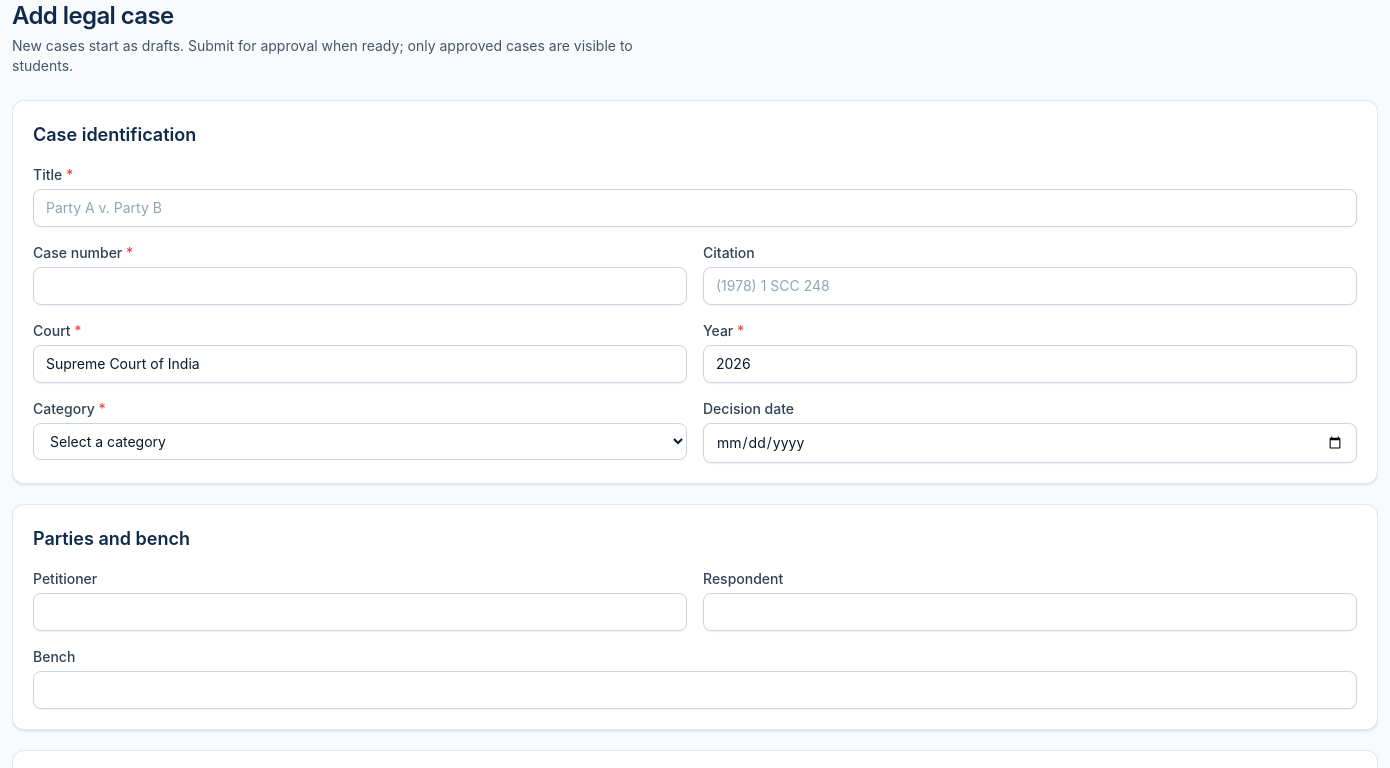
Test case: CaseForm › flags a duplicate case number on that field
Type "Maneka Gandhi v. Union of India" into the field labelled "Title *".
click(695, 208); type("Maneka Gandhi v. Union of India")  # box [33,189,1357,227]
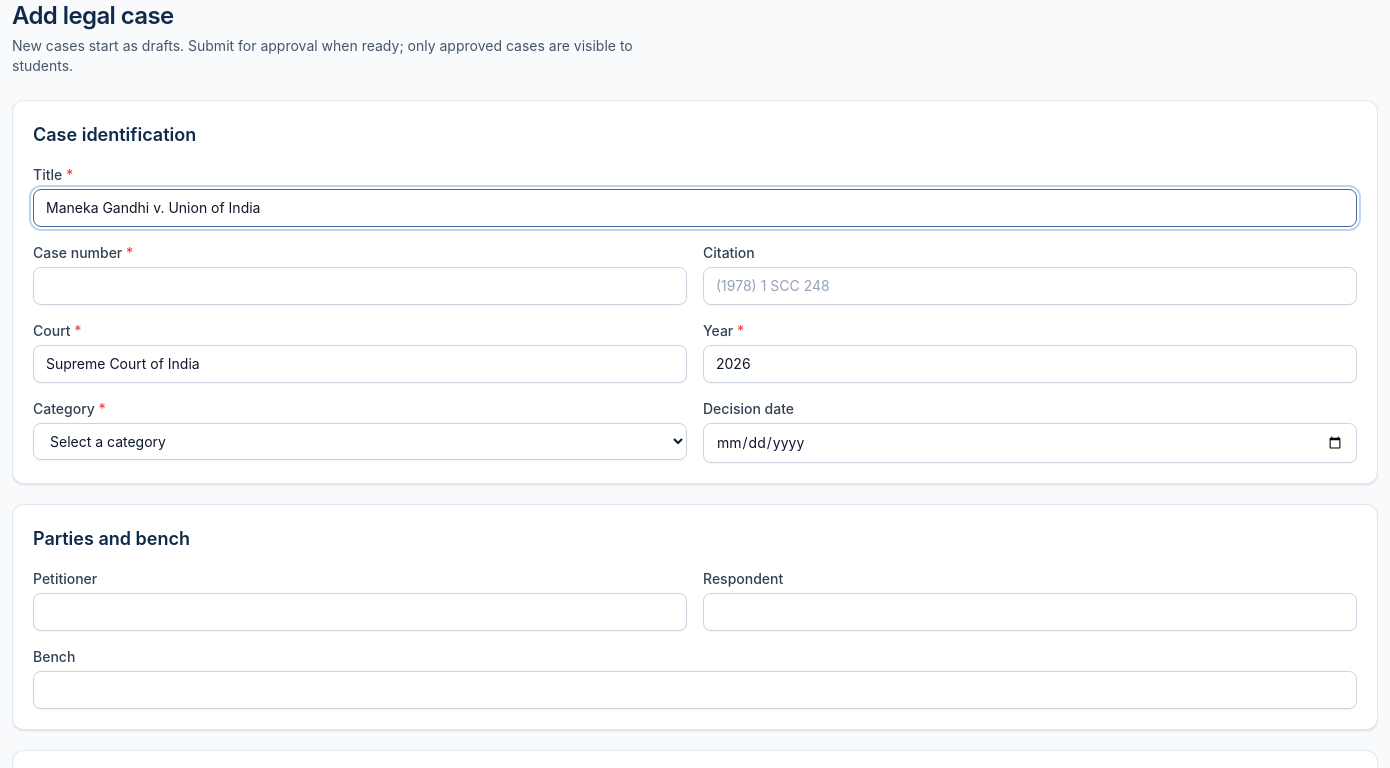
Type "WP 231/1977" into the field labelled "Case number *".
click(360, 286); type("WP 231/1977")  # box [33,267,687,305]
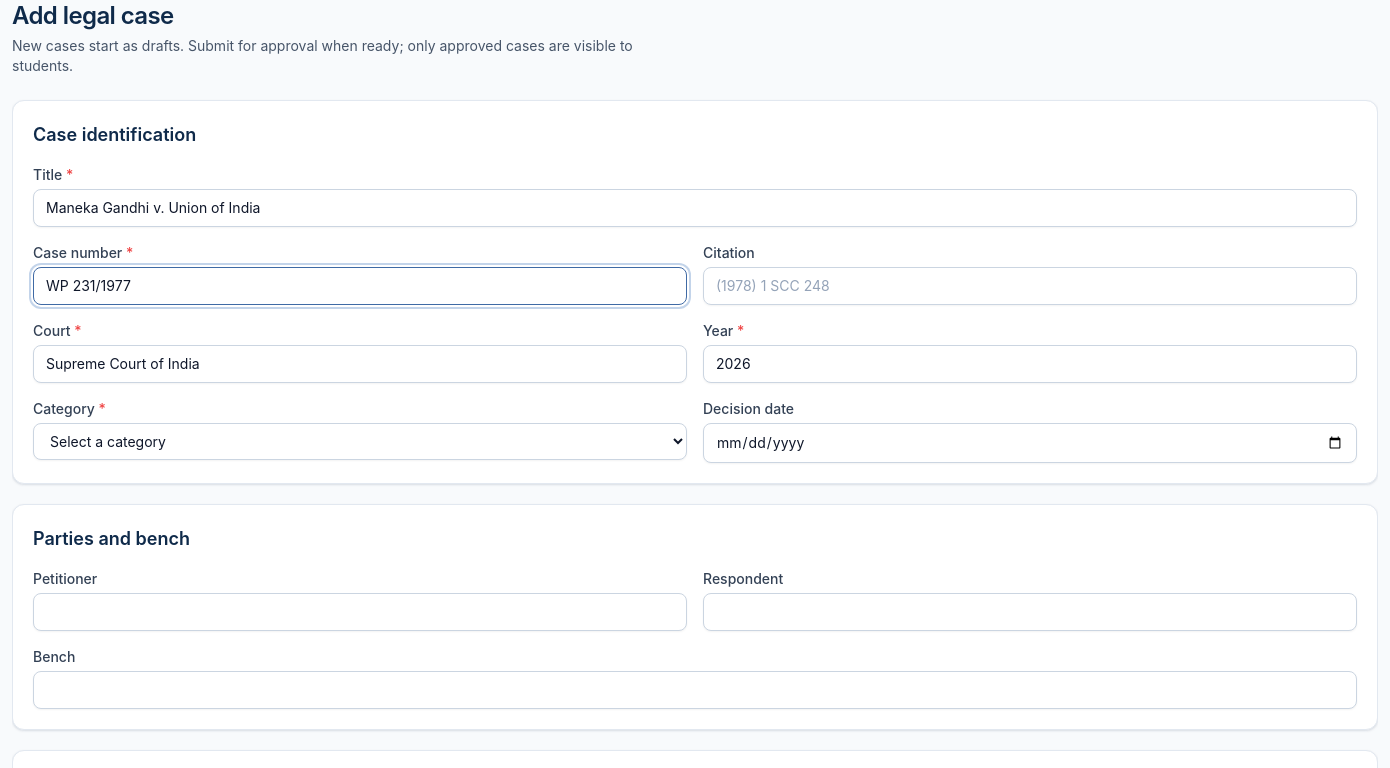
Select "Constitutional Law" in the dropdown labelled "Category *" at (360, 442), box [33,423,687,460]
(page scrolled)
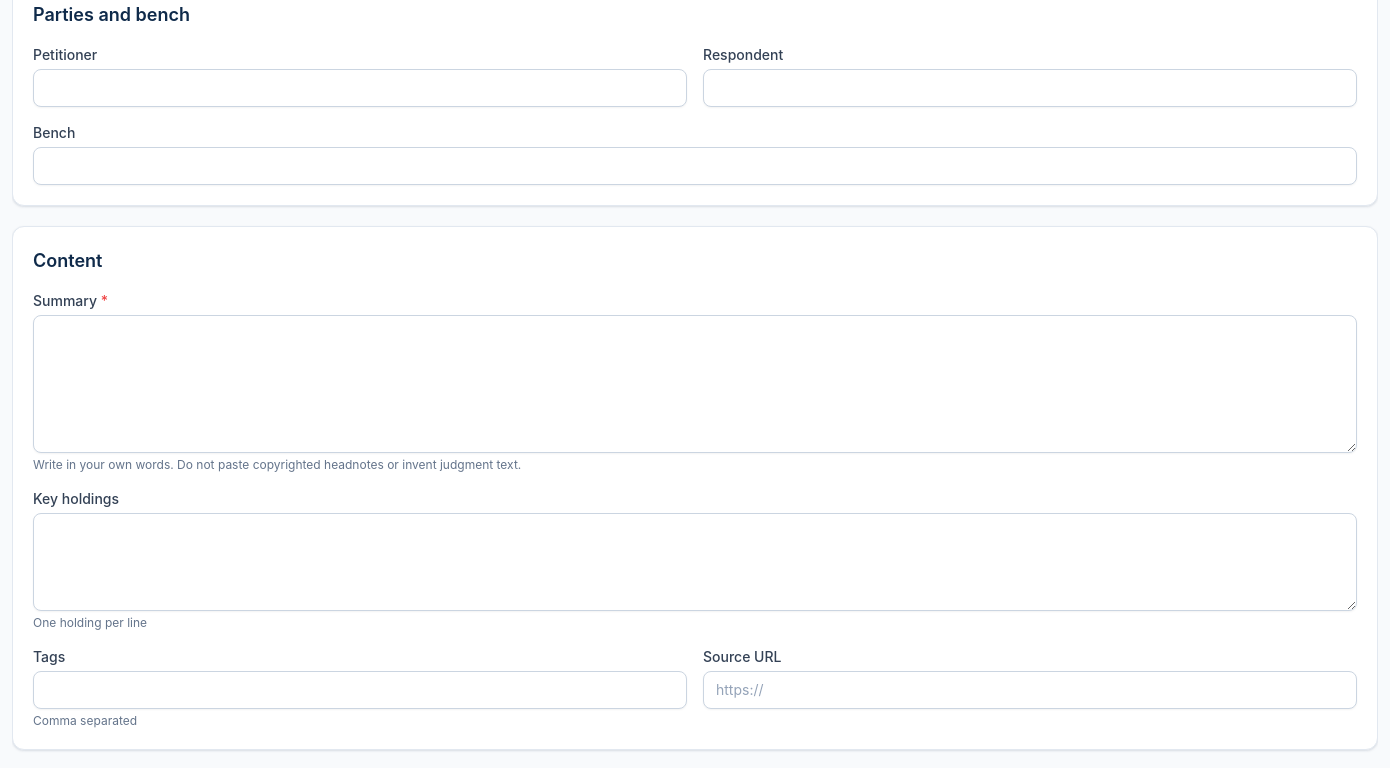
Type "Expanded Article 21 and due process." into the text box labelled "Summary *".
click(695, 384); type("Expanded Article 21 and due process.")  # box [33,315,1357,453]
(page scrolled)
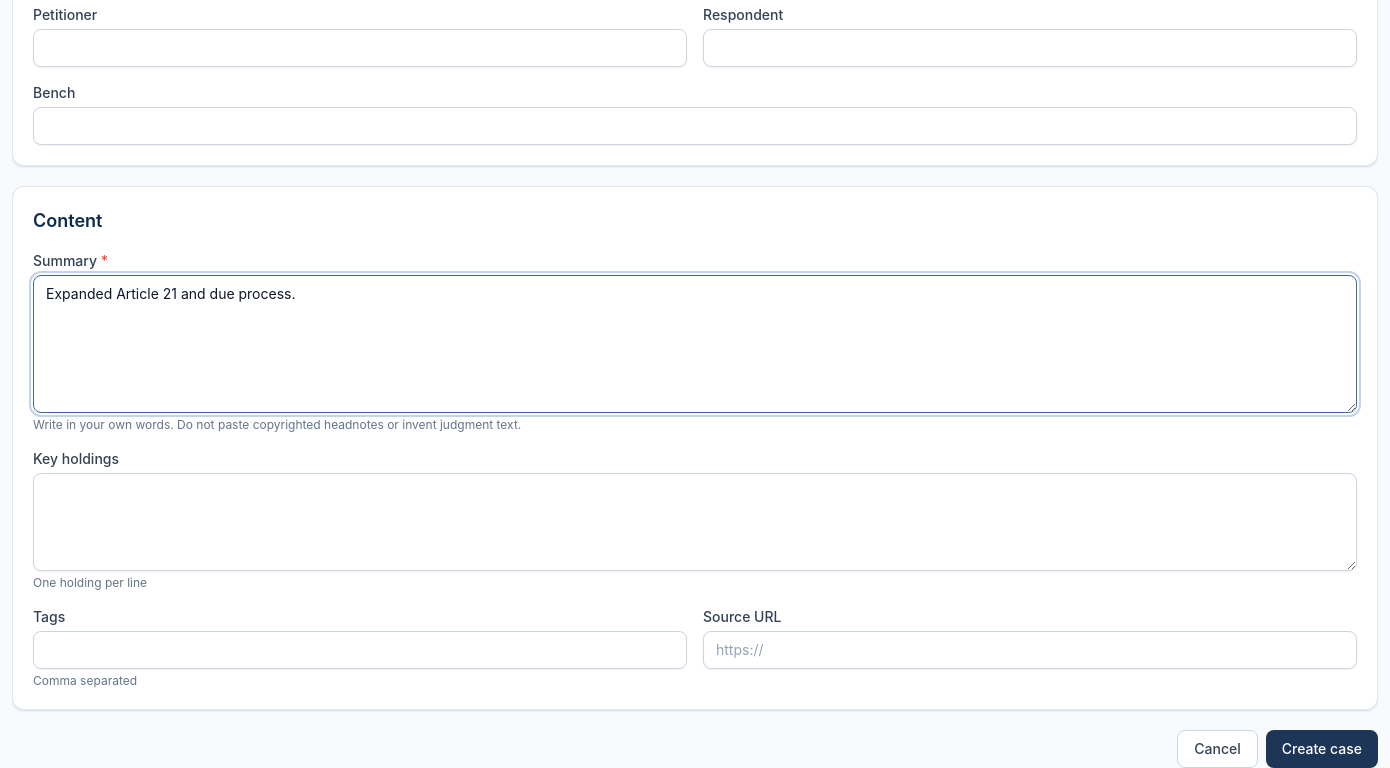
Click the button "Create case".
click(1322, 749)  # box [1266,730,1378,767]
(page scrolled)
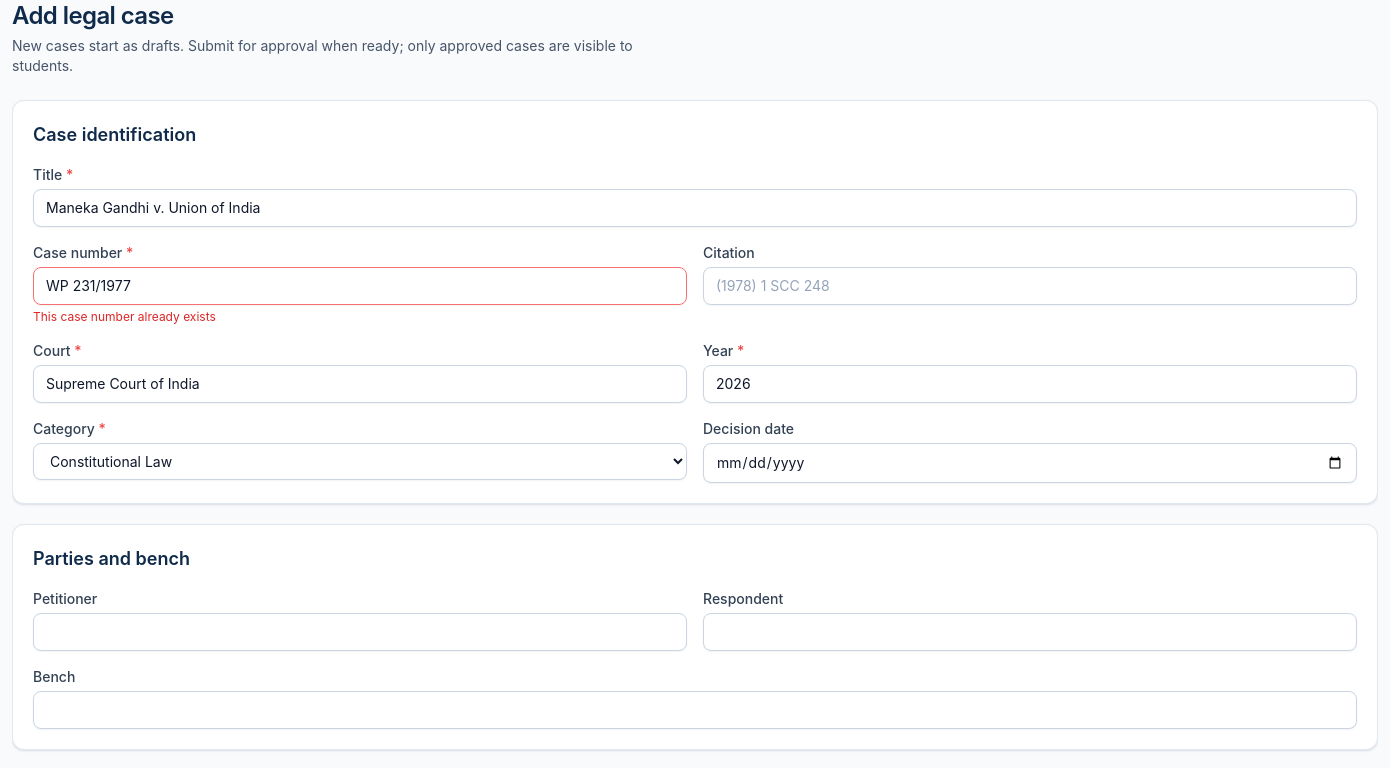
Now the text "This case number already exists" is shown, box [33,309,216,324]
